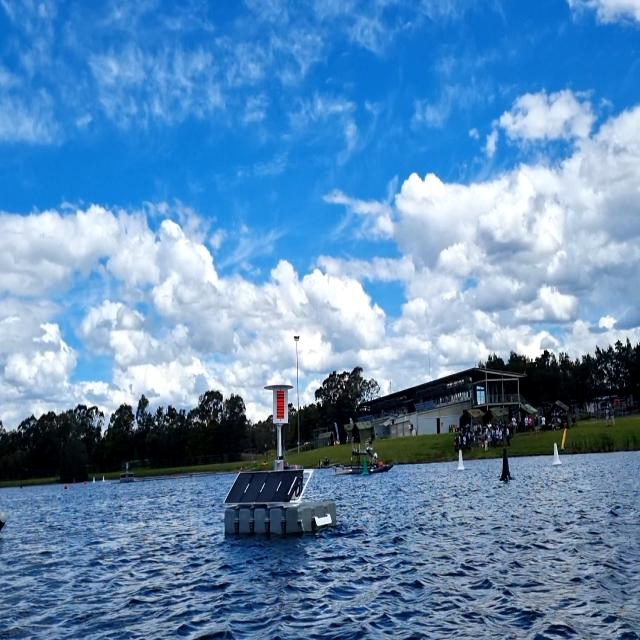led: (274, 389, 287, 423)
